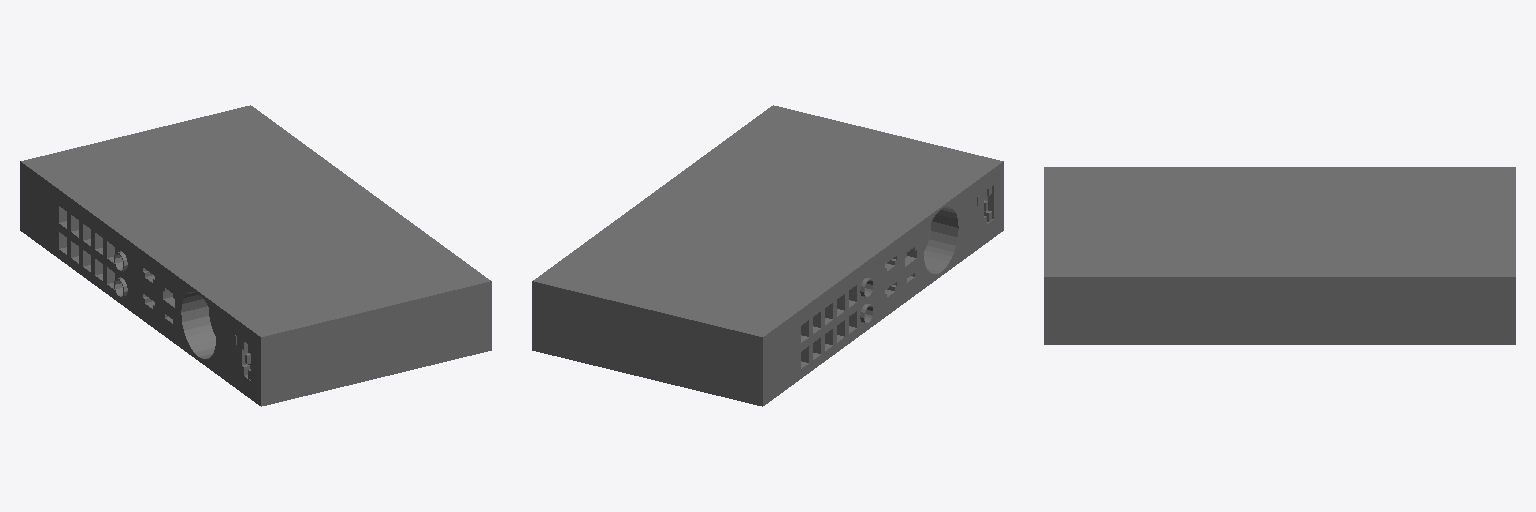
URDF robot description (generic_nvr):
<?xml version="1.0"?>
<robot name="generic_nvr">

  <link name="generic_nvr_link">
  
    <visual>
      <origin xyz="0 0 0" rpy="0 0 0"/>
      <geometry>
        <mesh filename="package://Generic_NVR/meshes/GenericNVR2.stl" scale="0.001 0.001 0.001"/>
      </geometry>
      <material name="gray">
        <color rgba="0.5 0.5 0.5 1.0"/>
      </material>
    </visual>

    <collision>
      <origin xyz="0 0 0" rpy="0 0 0"/>
      <geometry>
        <mesh filename="package://Generic_NVR/meshes/GenericNVR2.stl" scale="0.001 0.001 0.001"/>
      </geometry>
    </collision>

    <inertial>
      <mass value="0.5"/>
      <origin xyz="0 0 0" rpy="0 0 0"/>
      <inertia
        ixx="0.001" ixy="0.0" ixz="0.0"
        iyy="0.001" iyz="0.0"
        izz="0.001"/>
    </inertial>
    
  </link>

</robot>

--- Render facts (derived) ---
Views: 3 orthographic renders of the robot side by side, from view 1: azimuth 30°, elevation 25°; view 2: azimuth 150°, elevation 25°; view 3: azimuth 270°, elevation 25°.
Model generic_nvr with 1 links and 0 joints (none), rooted at generic_nvr_link, posed every joint at zero.
Visible links, largest first — view 1: generic_nvr_link; view 2: generic_nvr_link; view 3: generic_nvr_link.
Boxes of the visible links, x1,y1,x2,y2 form: generic_nvr_link: (20,105,491,406); generic_nvr_link: (532,105,1003,406); generic_nvr_link: (1044,167,1515,344).
Size in the robot's own frame: 0.1696 by 0.3015 by 0.057 metres.
Meshes: 1 distinct files referenced, 1 mesh visuals loaded (1 binary STL).